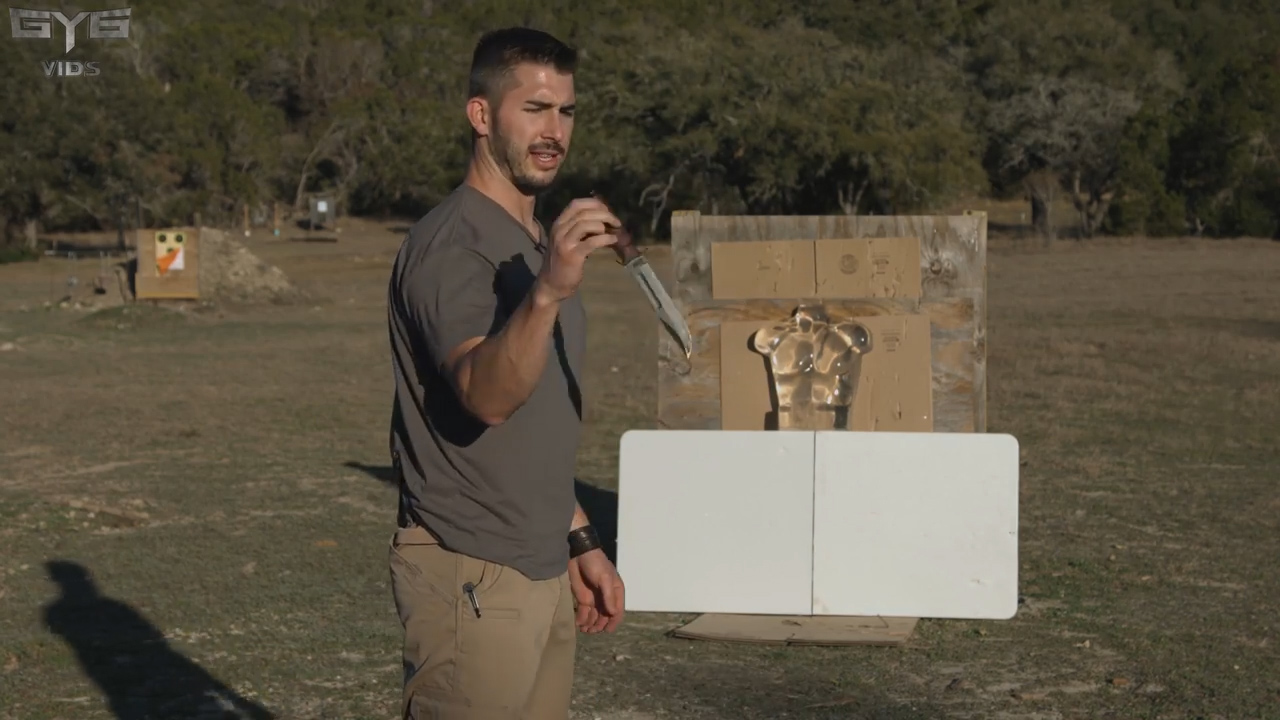knife: (575, 188, 700, 373)
